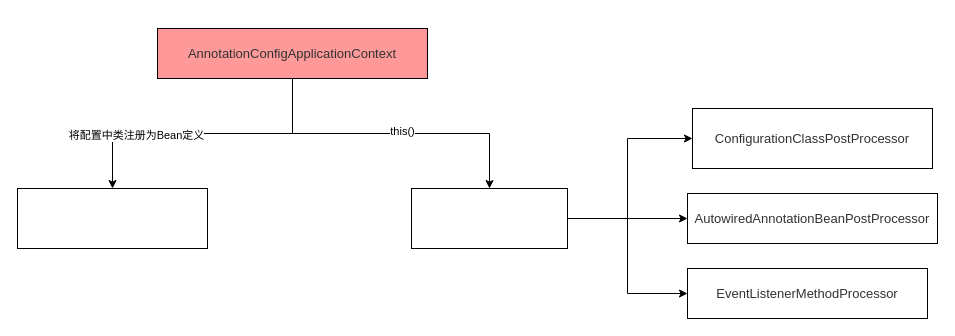
The diagram is 955 pixels wide and 336 high, and some of its shapes have lost their labels. Each missing label, with the centre of its shape:
"BeanDefinitionReader" belongs at point (489, 218).
"register(componentClasses);" belongs at point (112, 218).
